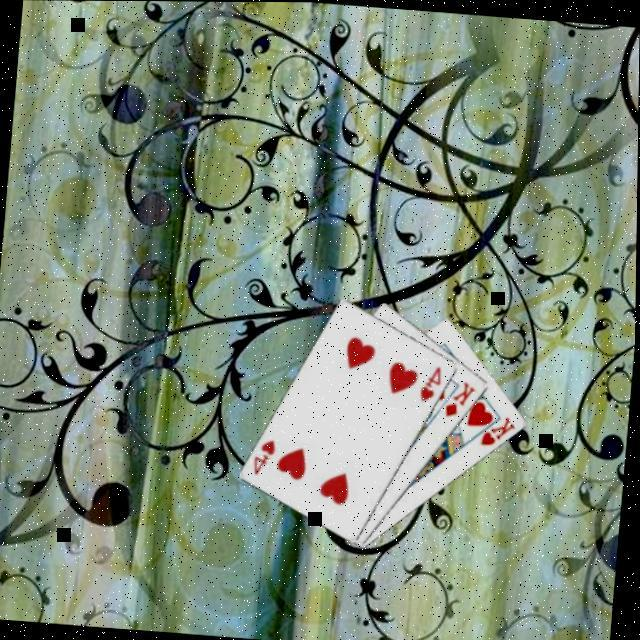4H: (414, 362, 444, 404), (248, 436, 278, 478)
KD: (440, 376, 478, 421)
KH: (476, 412, 518, 451)
